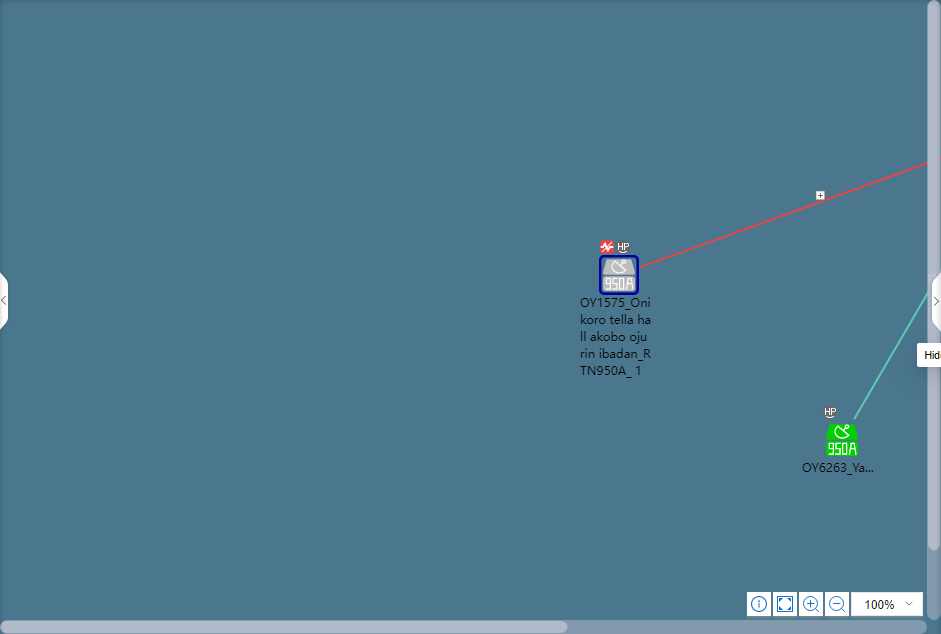Link_Blue: (851, 290, 928, 422)
Link_Red: (640, 162, 927, 270)
RTN_Gray: (601, 259, 636, 293)
RTN_Green: (826, 425, 857, 457)
